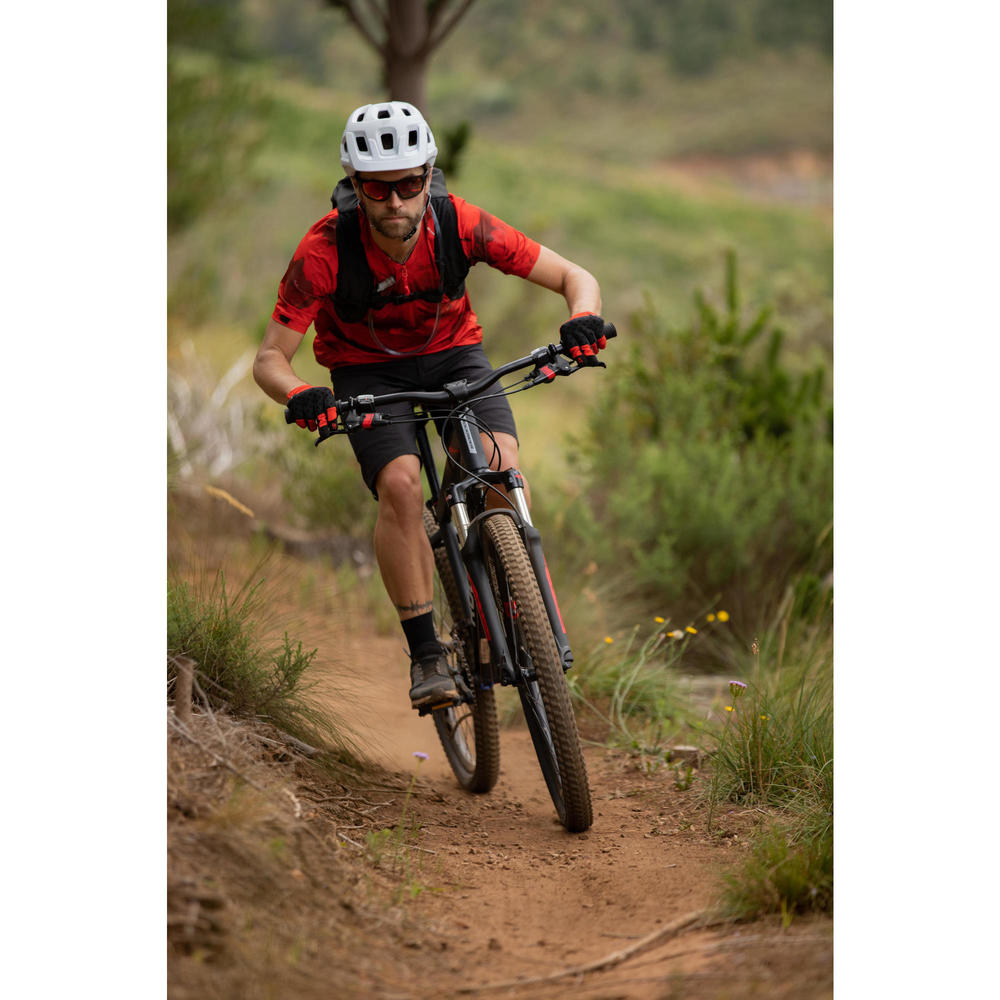MountainBike: (280, 326, 611, 825)
